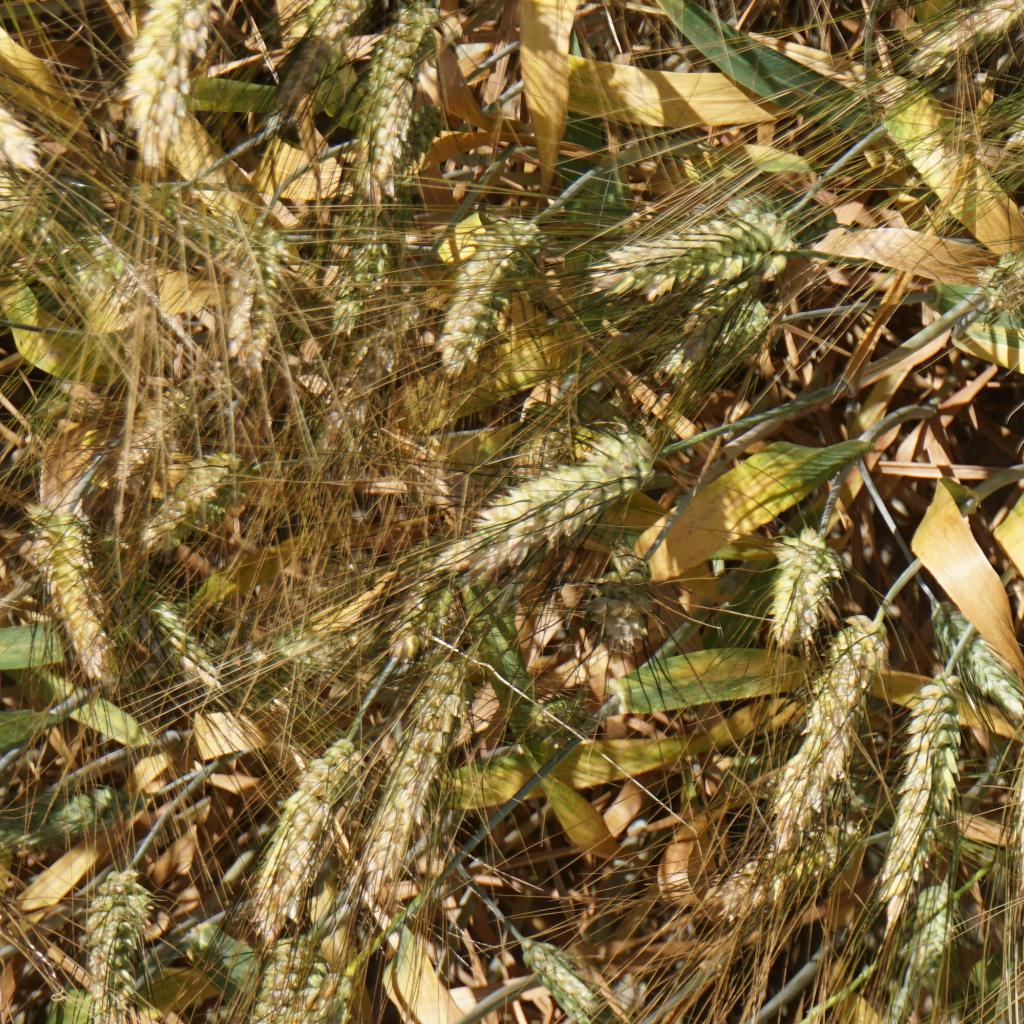0-0: (444, 414, 672, 549), (580, 182, 811, 304), (109, 0, 237, 162), (642, 281, 802, 402), (783, 614, 878, 809), (460, 386, 615, 501), (434, 208, 548, 361), (260, 0, 402, 116), (886, 662, 959, 887), (253, 736, 342, 913), (392, 657, 466, 861), (365, 0, 447, 181), (696, 819, 858, 906), (34, 513, 115, 668), (218, 225, 296, 372), (926, 591, 1020, 705), (132, 452, 239, 542), (84, 865, 155, 994), (329, 329, 409, 436), (758, 528, 835, 636), (138, 588, 220, 686), (896, 880, 953, 996), (109, 387, 189, 467), (382, 567, 453, 654), (514, 940, 604, 1006), (326, 232, 386, 326), (592, 563, 662, 643), (25, 778, 121, 832), (273, 623, 364, 678), (0, 214, 85, 267), (61, 246, 137, 305), (384, 108, 448, 176), (294, 957, 357, 1024), (261, 929, 308, 1010), (977, 243, 1024, 322), (530, 687, 591, 734), (1001, 72, 1024, 162), (292, 0, 398, 18)
